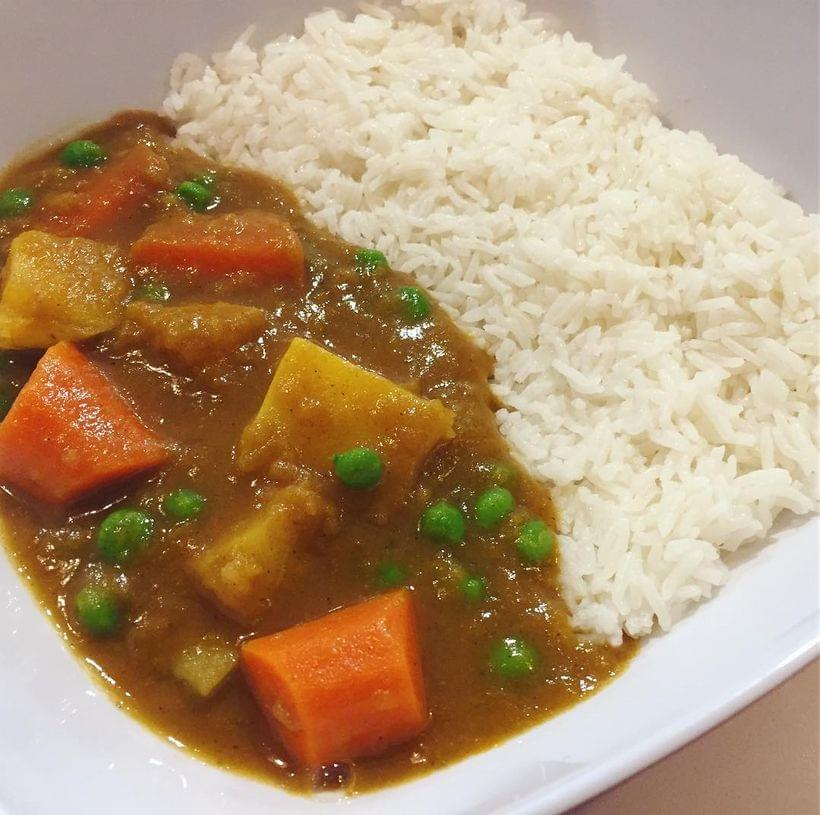curry: (70, 165, 520, 767), (167, 307, 517, 709), (108, 261, 417, 651), (16, 137, 313, 537)
